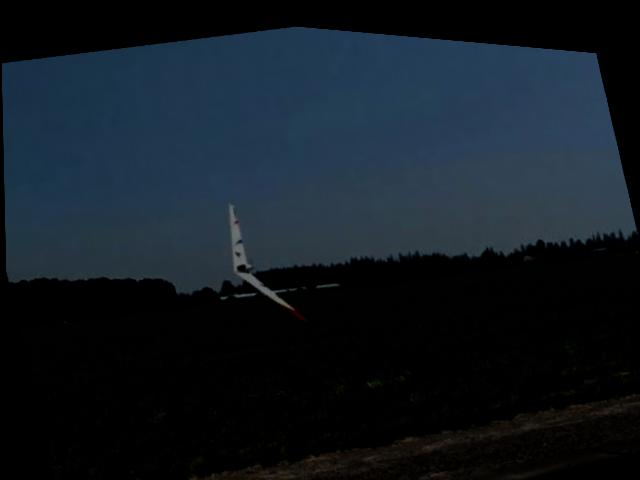flying wing: (211, 183, 310, 337)
